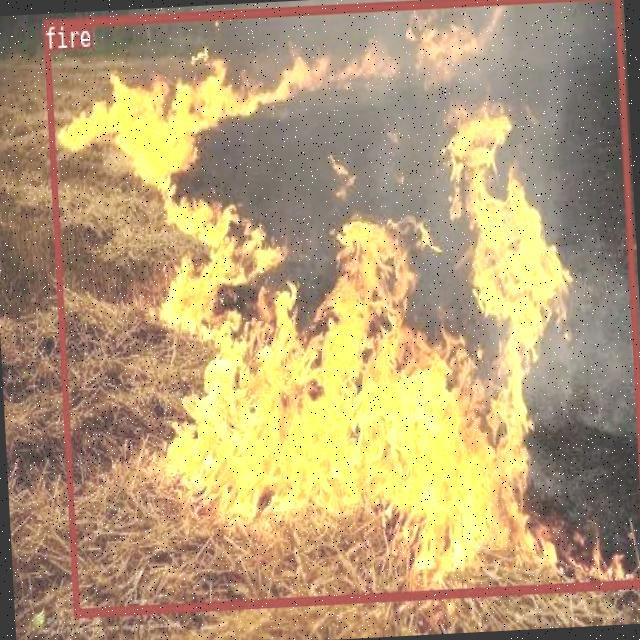fire: (41, 0, 640, 615)
